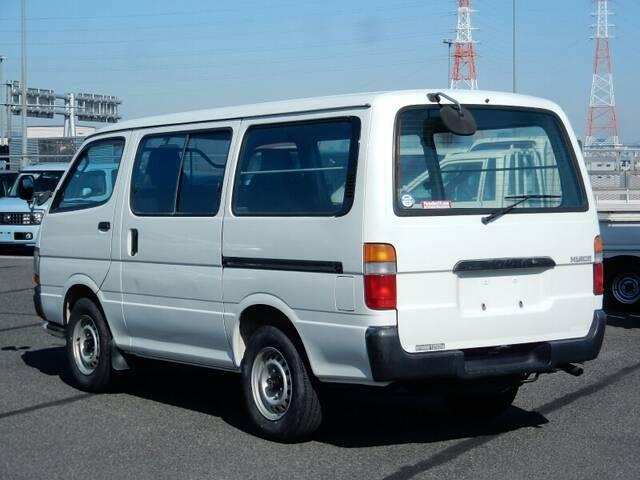Van: (30, 90, 609, 432)
